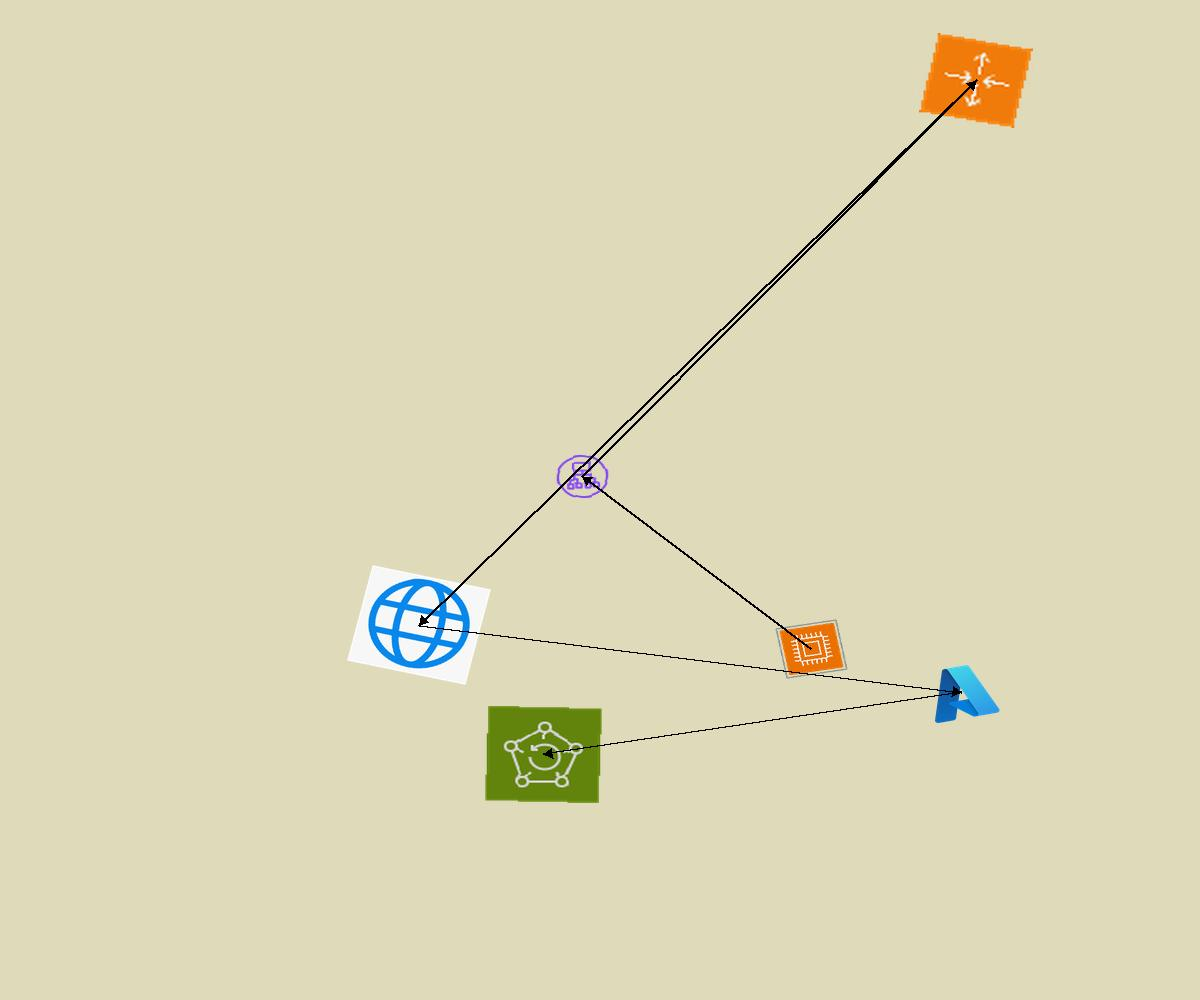AWS-Backup: (484, 705, 603, 804)
AWS-Category_Compute: (775, 619, 848, 679)
AWS-Res_Elastic-Load-Balancing_Application-Load-Balancer: (552, 451, 613, 502)
AWS-Scaling-group: (919, 33, 1033, 128)
Azure_http: (347, 565, 491, 685)
Azure_services: (919, 657, 1004, 728)
